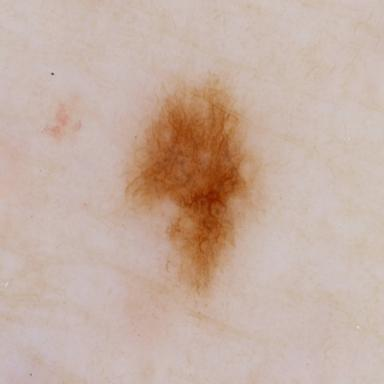nevus: (127, 73, 258, 296), (43, 103, 82, 139)
